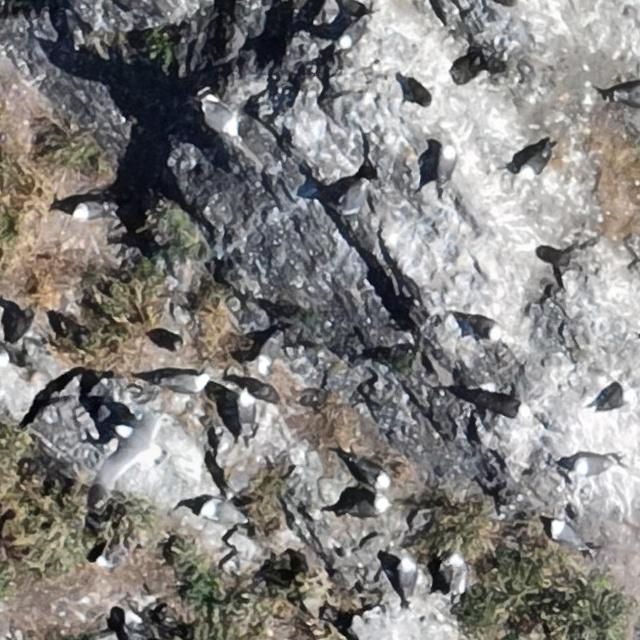F: (94, 404, 167, 506)
umineko: (200, 97, 240, 136), (257, 333, 283, 373), (445, 554, 468, 598), (347, 495, 391, 517), (575, 454, 619, 476), (596, 389, 633, 412), (165, 374, 209, 393), (464, 315, 499, 337), (520, 150, 546, 178), (356, 464, 389, 486), (551, 521, 580, 546), (490, 398, 528, 417), (202, 503, 239, 522), (338, 21, 362, 47), (237, 396, 253, 433), (399, 561, 415, 597), (75, 201, 105, 219), (438, 146, 454, 179), (616, 86, 640, 105)
